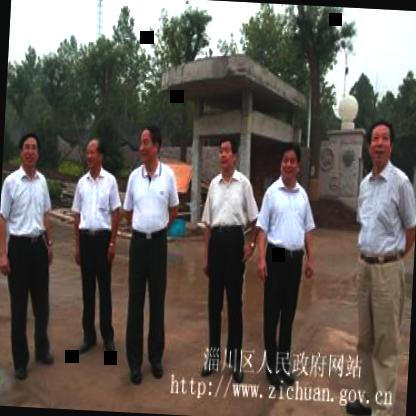head: (362, 116, 398, 168), (138, 119, 164, 170), (16, 128, 42, 174), (83, 131, 107, 176), (276, 142, 303, 182), (214, 134, 238, 176)
